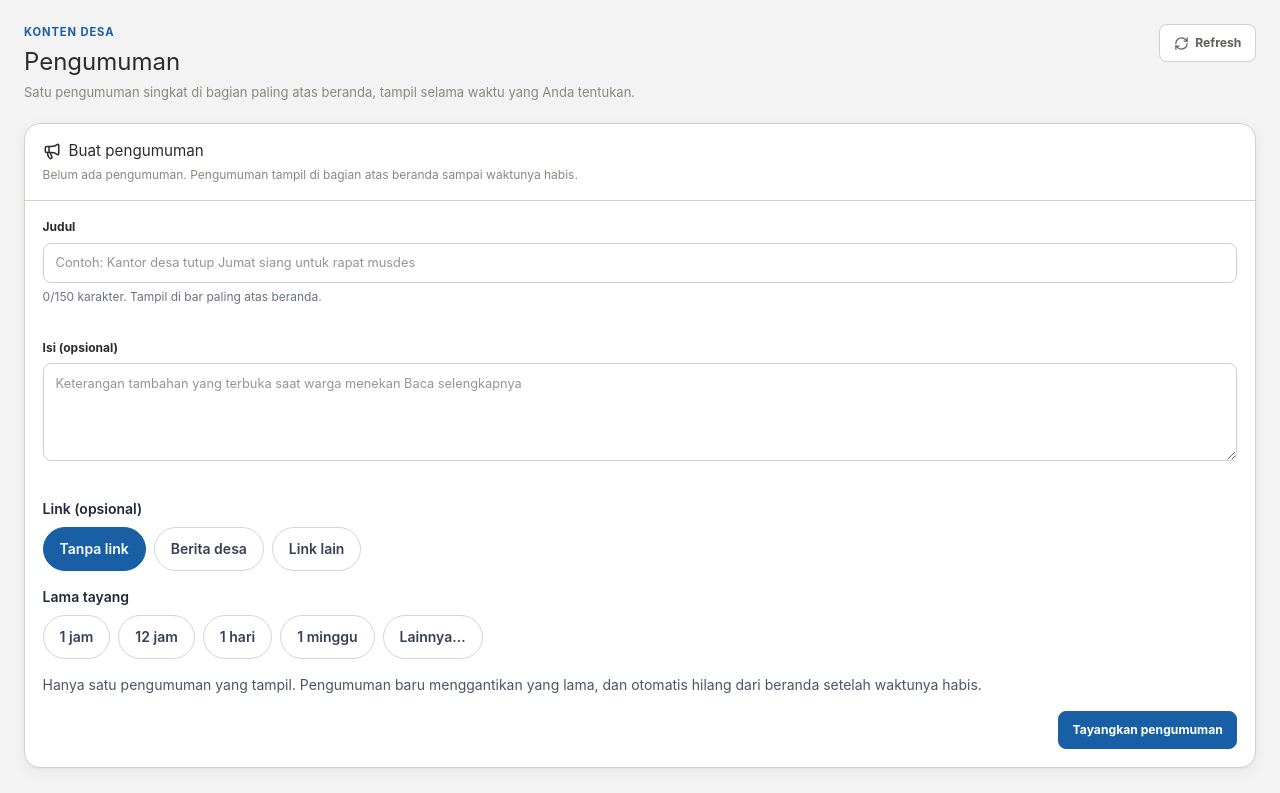
Test case: KelolaPengumumanPage › shows the validation message from the server
This screenshot has width=1280, height=793.
In the field labelled "Judul": (640, 263) top-left (43, 243), bottom-right (1237, 283), type "Info"
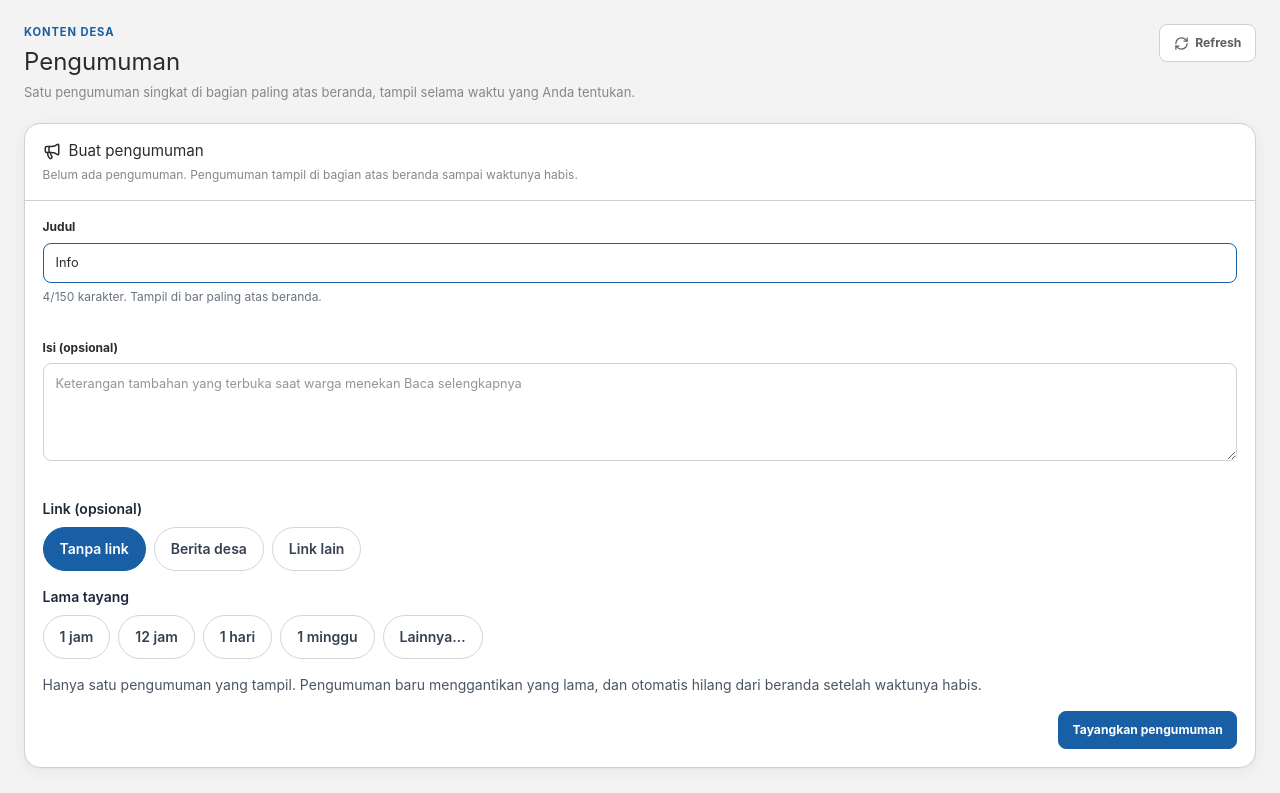
Click the button "Link lain": (317, 549) top-left (272, 527), bottom-right (362, 571)
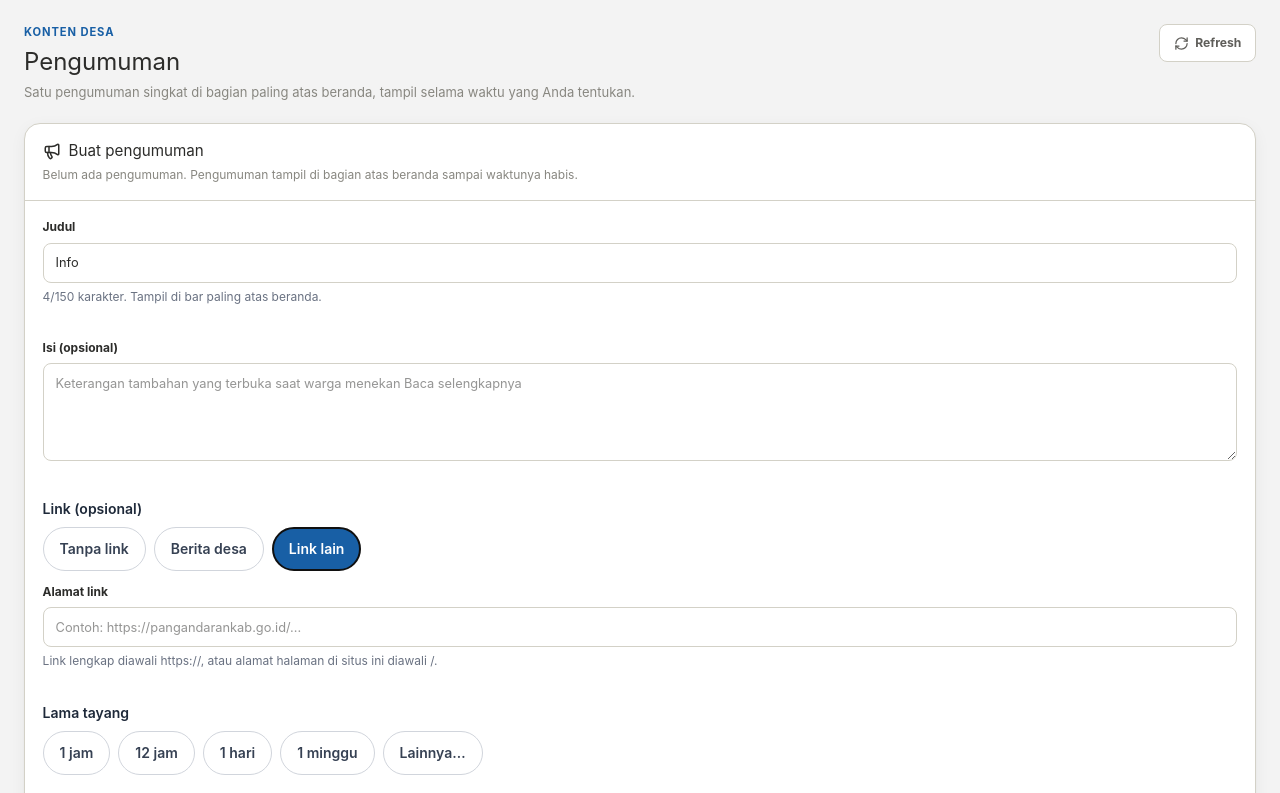
In the field labelled "Alamat link": (640, 627) top-left (43, 607), bottom-right (1237, 647), type "http://contoh.id"
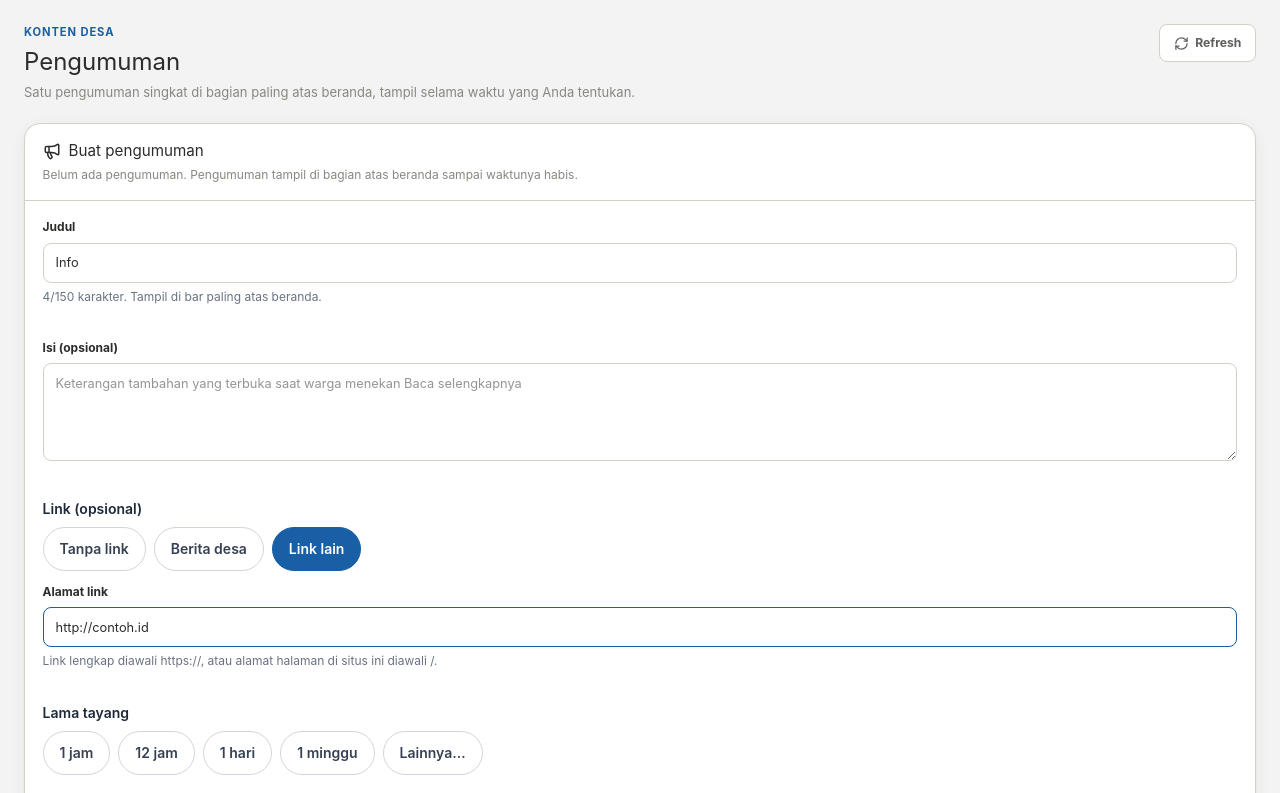
Click the button "1 hari": (238, 753) top-left (203, 731), bottom-right (272, 775)
(page scrolled)
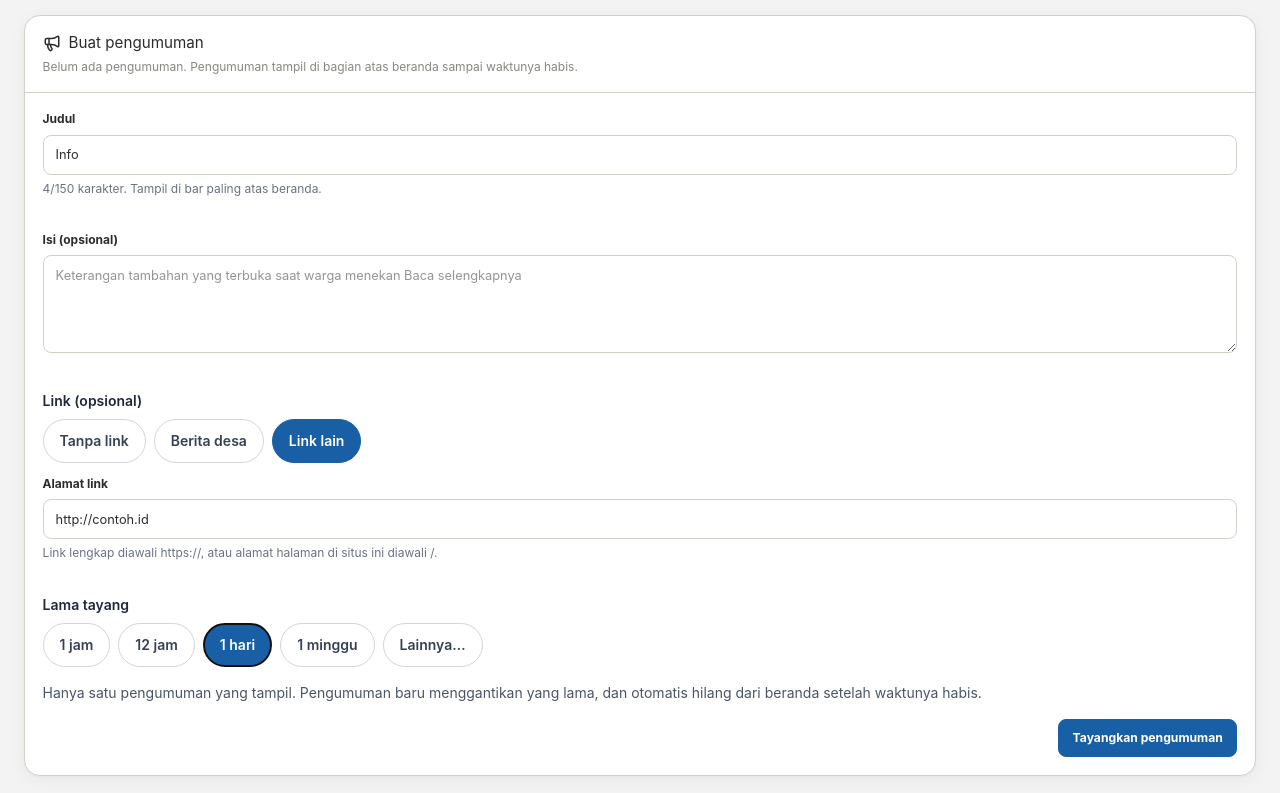
Click the button "Tayangkan pengumuman": (1148, 738) top-left (1058, 719), bottom-right (1237, 757)
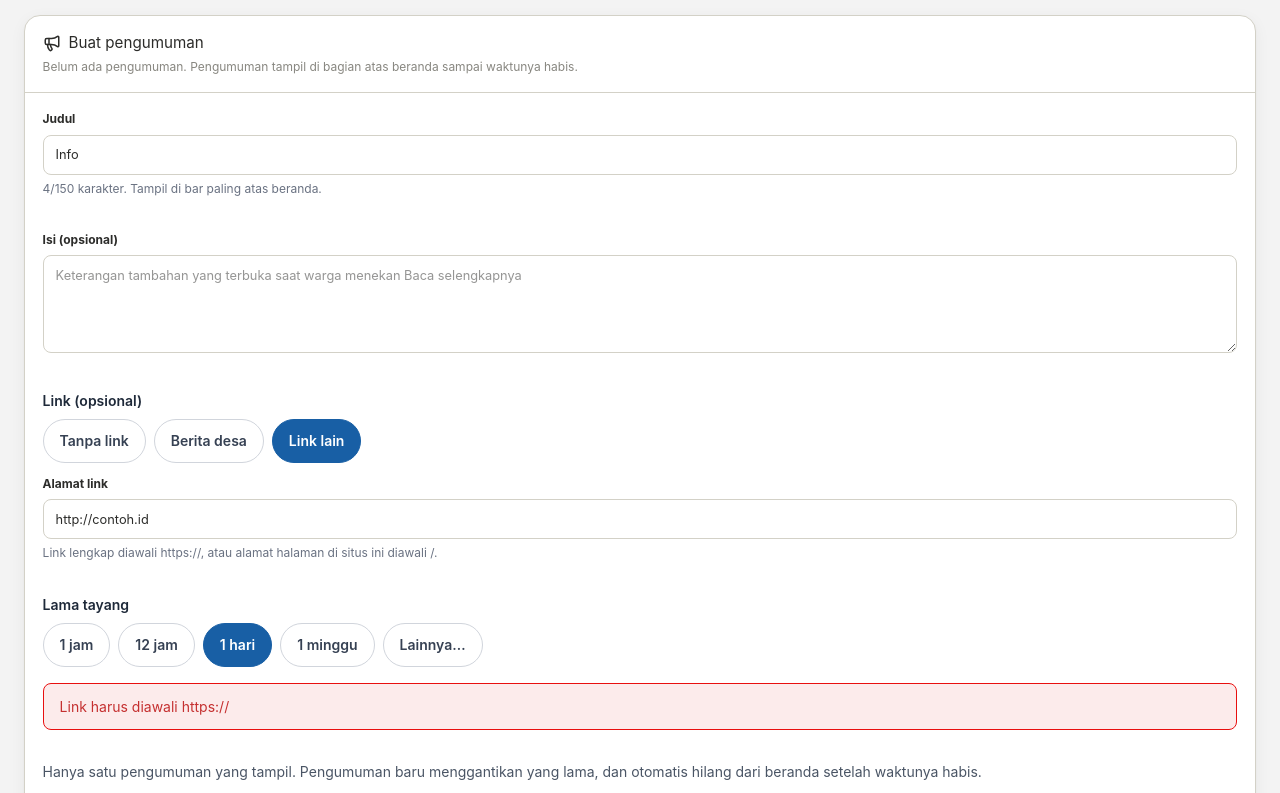
Expected: the message reads "Link harus diawali https://", top-left (60, 698), bottom-right (229, 715)
